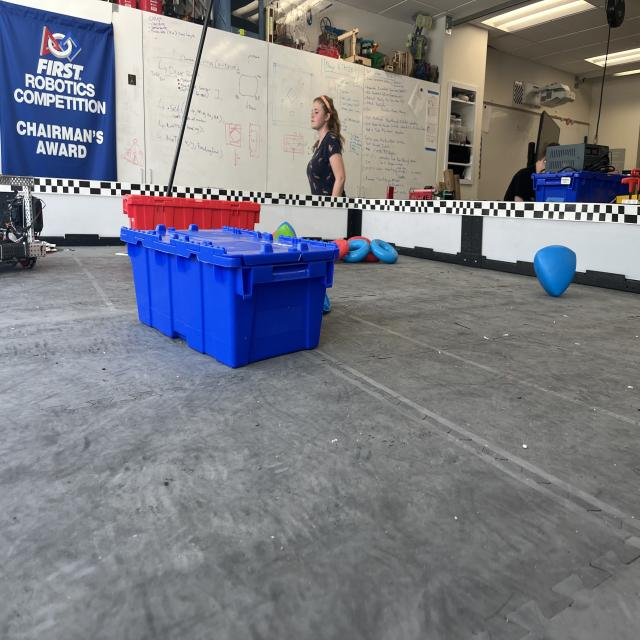Blue-Ring: (370, 238, 398, 263), (342, 238, 370, 263)
